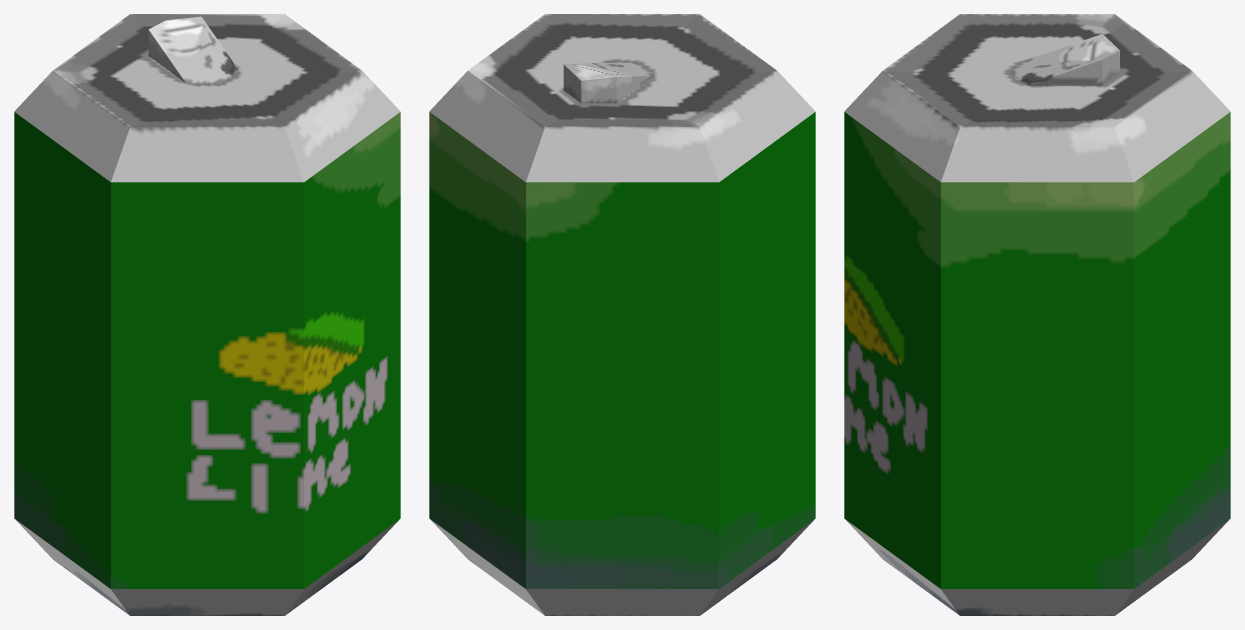
The model's file is soda_01_lodded.fbx.
The picture shows the model from 3 angles, left to right: view 1: azimuth 30°, elevation 25°; view 2: azimuth 150°, elevation 25°; view 3: azimuth 270°, elevation 25°; orthographic projection.
Parts seen in each view (by area): view 1: soda_01_LOD0; view 2: soda_01_LOD0; view 3: soda_01_LOD0.
Part boxes in pixels (bbox=[...]): soda_01_LOD0: bbox=[14, 14, 400, 615]; soda_01_LOD0: bbox=[429, 14, 815, 615]; soda_01_LOD0: bbox=[844, 14, 1230, 615].
Size of what is drawn, in the model's own units: 48.45 by 81.84 by 55.95.
